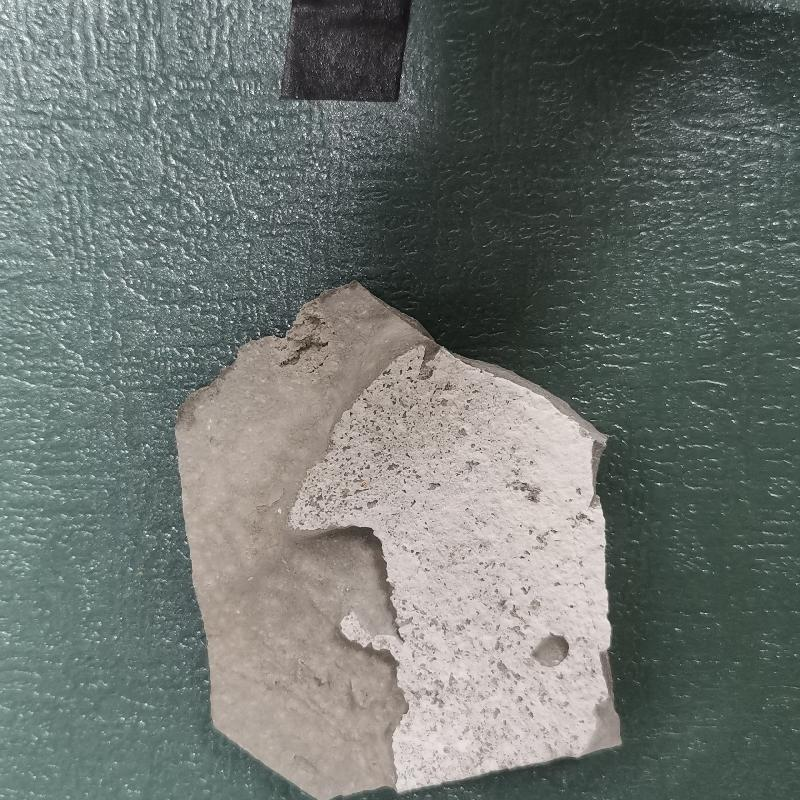tile: (150, 283, 642, 790)
